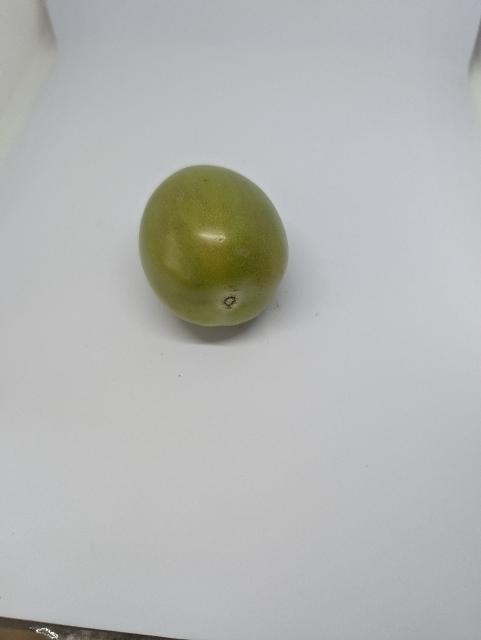green: (136, 165, 294, 331)
